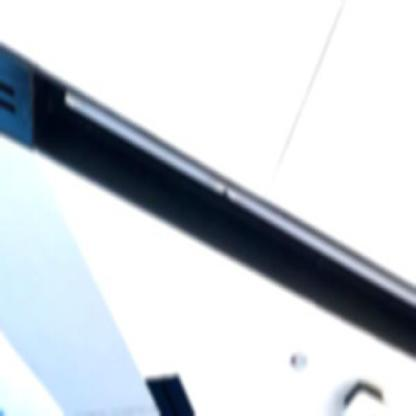light_off: (58, 74, 416, 341)
